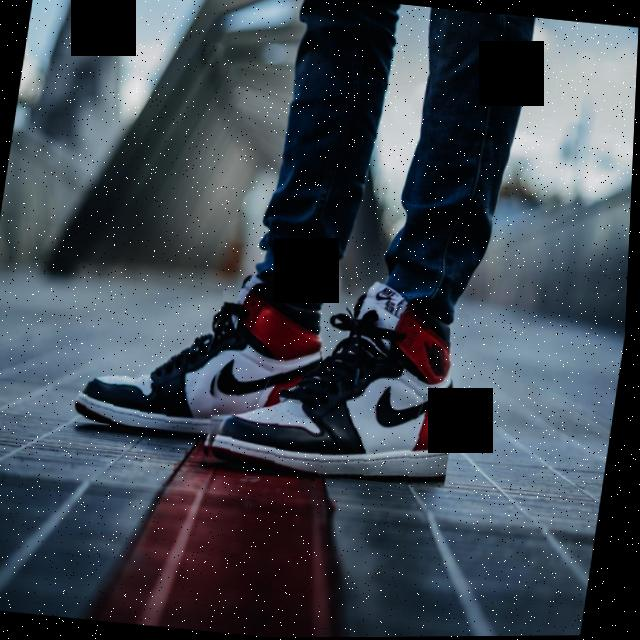shoe: (200, 283, 474, 490), (75, 269, 330, 444)
